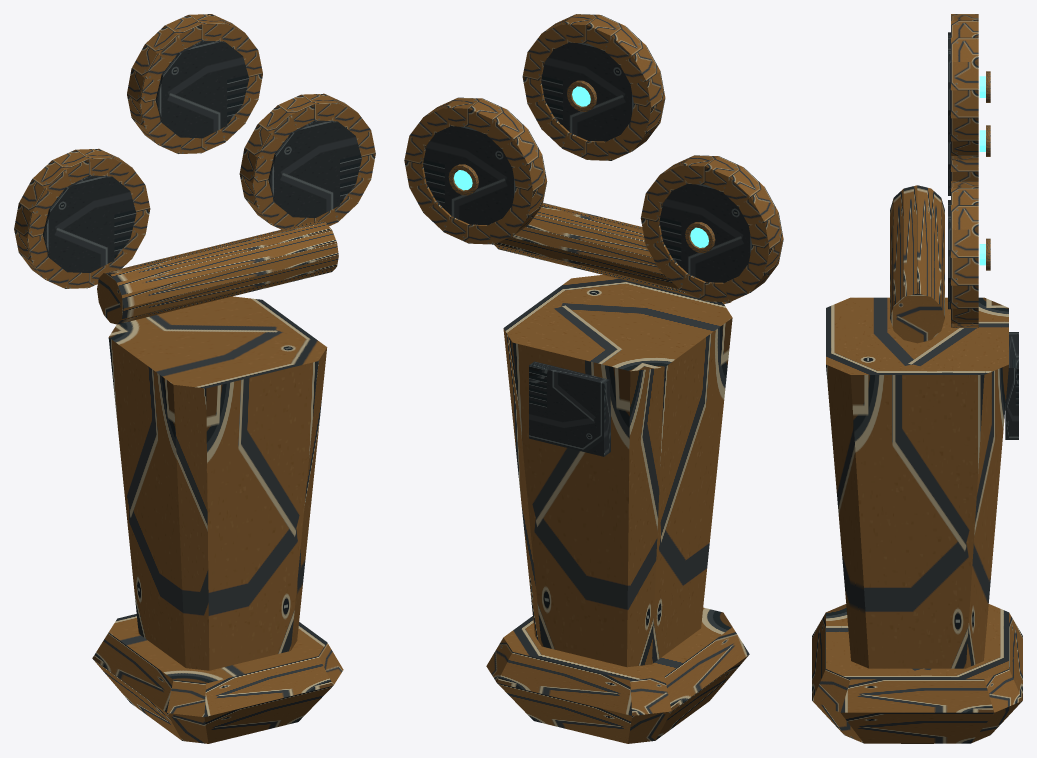
The model's file is pulse.glb.
3 renders of one model, left to right at view 1: azimuth 30°, elevation 25°; view 2: azimuth 150°, elevation 25°; view 3: azimuth 270°, elevation 25°, orthographic. The views are drawn at different scales.
Parts seen in each view (by area): view 1: STProp_pulse_Body; view 2: STProp_pulse_Body; view 3: STProp_pulse_Body.
Part boxes in pixels (<box>): STProp_pulse_Body: <box>14,14,375,743</box>; STProp_pulse_Body: <box>404,14,783,743</box>; STProp_pulse_Body: <box>812,14,1022,743</box>.
Size of the model in its own units: 0.68 by 1.29 by 0.345.
Materials: 5 (4 with a texture image).
